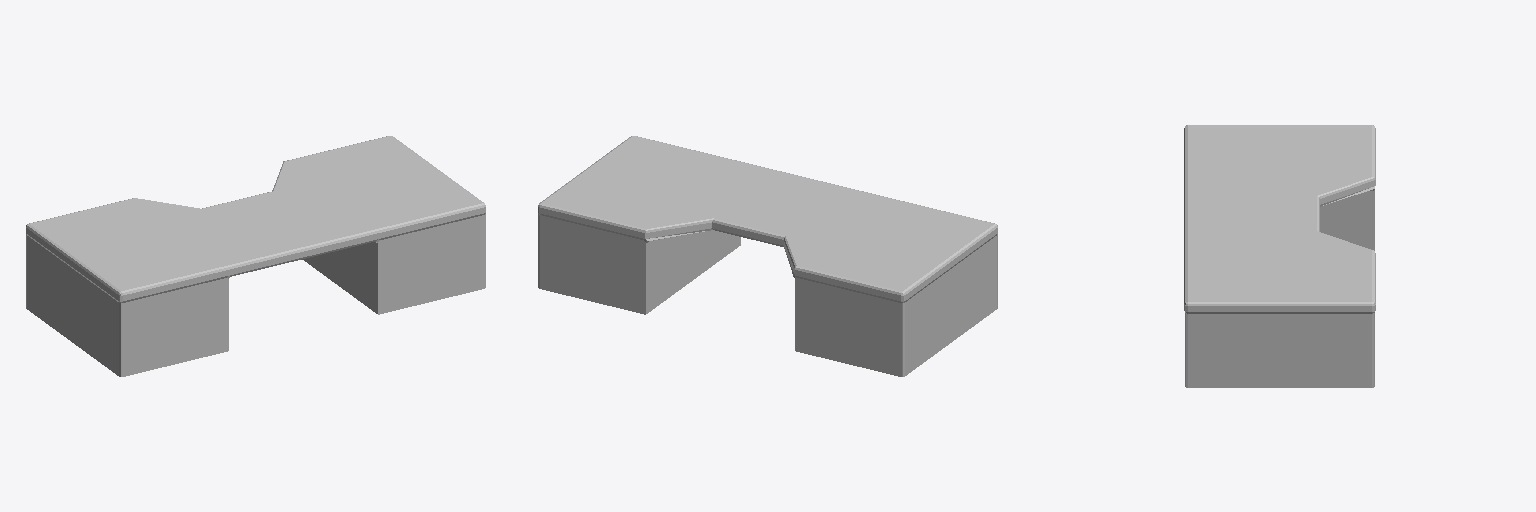
Rendered from Table.obj.
3 views of the same model, side by side, from view 1: azimuth 30°, elevation 25°; view 2: azimuth 150°, elevation 25°; view 3: azimuth 270°, elevation 25° (orthographic).
Visible parts, largest first — view 1: pCube1; view 2: pCube1; view 3: pCube1.
Part boxes in pixels (x1,y1,x2,y2): pCube1: (26, 136, 485, 376); pCube1: (538, 136, 997, 376); pCube1: (1184, 125, 1375, 387).
Bounding box in the file's own units: 13.81 × 3.05 × 6.22.